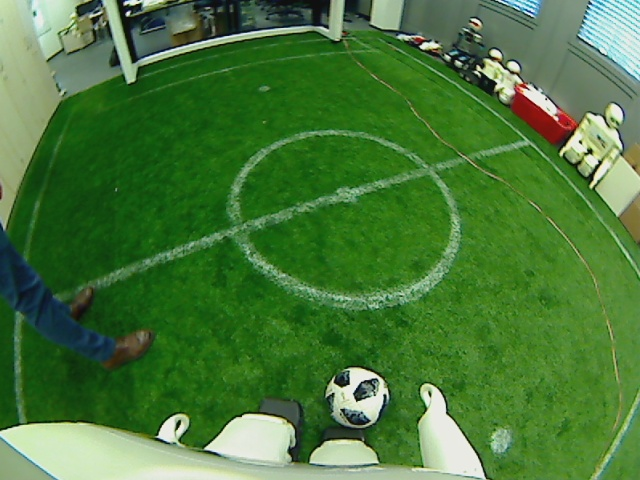ball: (322, 365, 390, 428)
